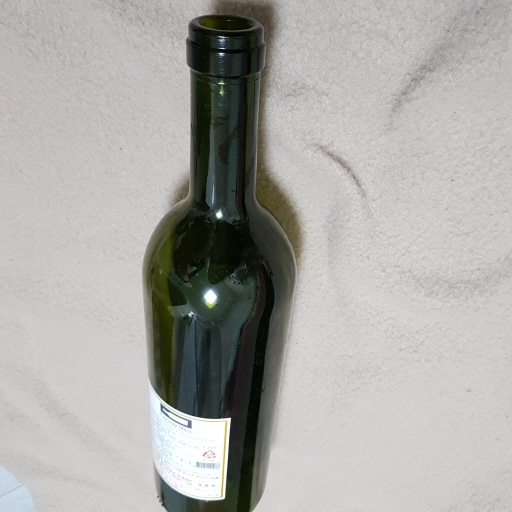Glass_2: (139, 11, 306, 512)
